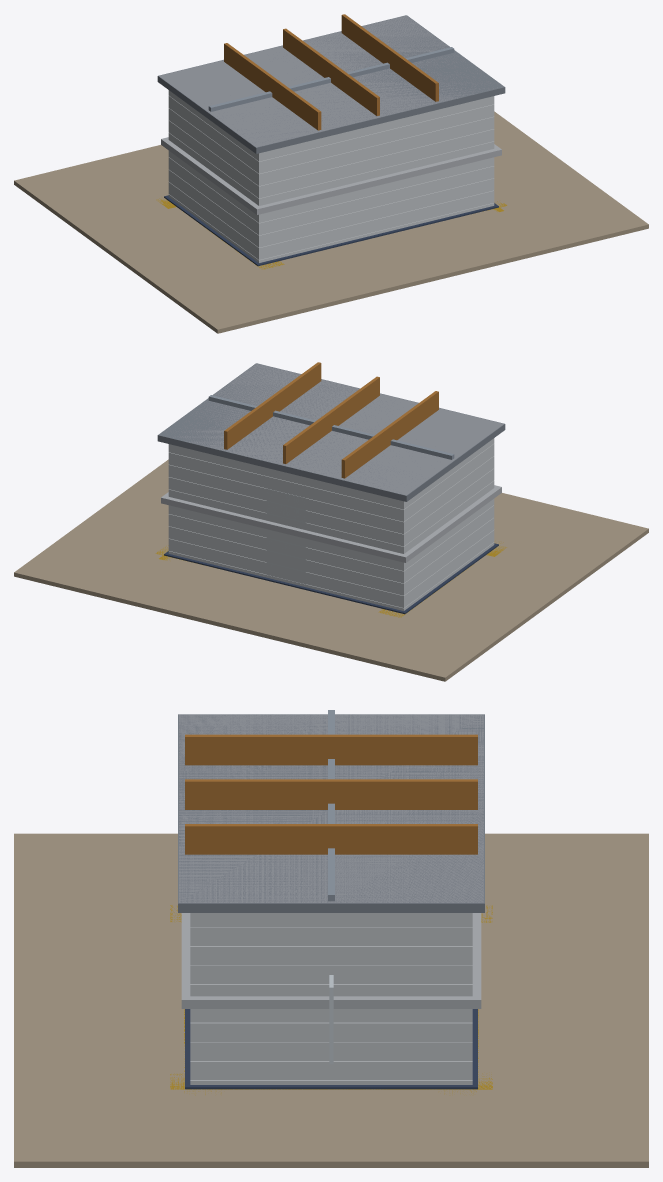
File: stage_09_roof_structure.glb
3 views of the same model, one above another, from view 1: azimuth 30°, elevation 25°; view 2: azimuth 150°, elevation 25°; view 3: azimuth 270°, elevation 25° (orthographic). The views are drawn at different scales.
Parts seen in each view (by area): view 1: world; view 2: world; view 3: world.
Boxes of the visible parts, x1,y1,x2,y2 form: world: [14, 14, 648, 333]; world: [14, 362, 648, 681]; world: [14, 710, 648, 1167].
Size of the model in its own units: 11 by 4.2 by 9.
